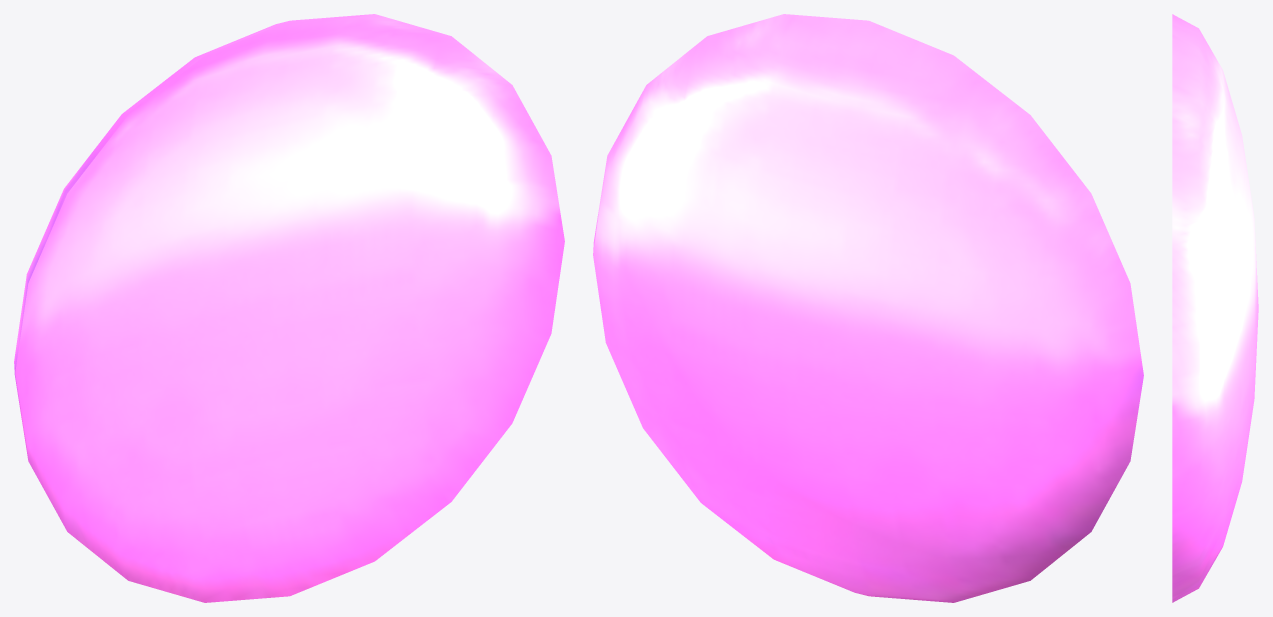
File: entity26072.gltf
The picture shows the model from 3 angles, left to right: view 1: azimuth 30°, elevation 25°; view 2: azimuth 150°, elevation 25°; view 3: azimuth 270°, elevation 25°; orthographic projection. The views are drawn at different scales.
Parts seen in each view (by area): view 1: node_Teleporter_Button; view 2: node_Teleporter_Button; view 3: node_Teleporter_Button.
Boxes of the visible parts, box(x1,y1,x2,y2) form: node_Teleporter_Button: box(14, 14, 564, 602); node_Teleporter_Button: box(593, 14, 1143, 602); node_Teleporter_Button: box(1172, 14, 1258, 602).
Bounding box in the file's own units: 0.5383 × 0.5383 × 0.0784.
1 material, 1 textured.
